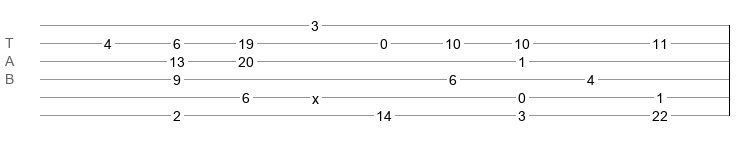0: (380, 36, 388, 46), (518, 90, 526, 100)
1: (518, 54, 526, 64), (656, 90, 664, 100)
10: (445, 36, 461, 46), (514, 36, 530, 46)
11: (652, 36, 668, 46)
13: (169, 54, 185, 64)
14: (376, 108, 392, 118)
19: (238, 36, 254, 46)
2: (173, 108, 181, 118)
20: (238, 54, 254, 64)
22: (652, 108, 668, 118)
3: (311, 18, 319, 28), (518, 108, 526, 118)
4: (104, 36, 112, 46), (587, 72, 595, 82)
6: (173, 36, 181, 46), (242, 90, 250, 100), (449, 72, 457, 82)
9: (173, 72, 181, 82)
x: (312, 91, 319, 99)
